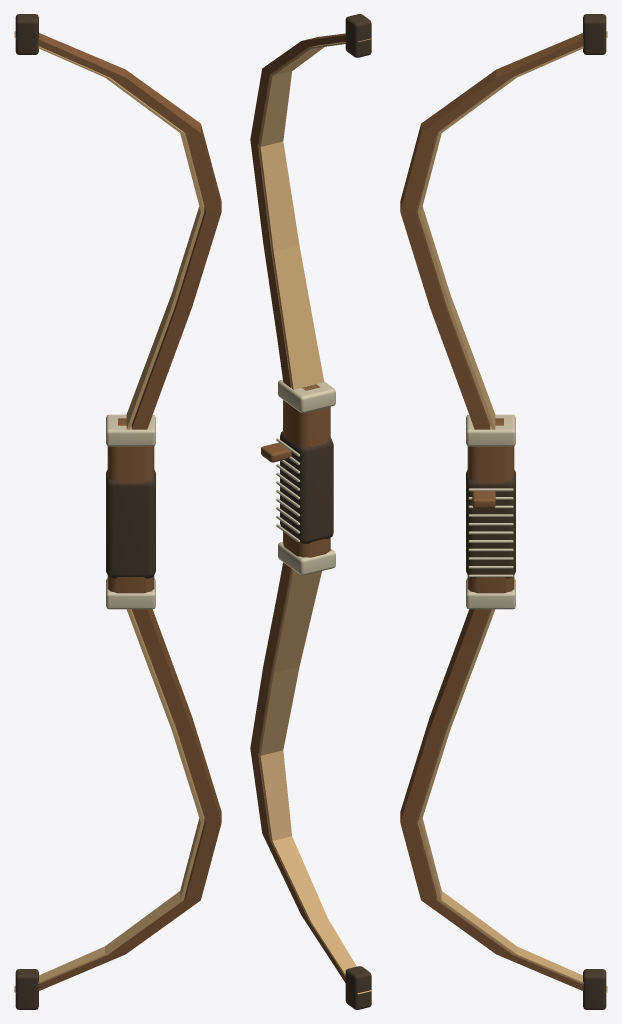
The model's file is recurve_bow.glb.
3 renders of one model, left to right at view 1: azimuth 90°, elevation 25°; view 2: azimuth 210°, elevation 25°; view 3: azimuth 270°, elevation 25°, orthographic.
Visible parts, largest first — view 1: Walnut limb 1, Walnut limb -1, Leather hand grip, Maple limb -1, Maple limb 1, Carved riser, Limb binding.001, Tip reinforcement 1, Tip reinforcement -1, Limb binding; view 2: Maple limb -1, Maple limb 1, Leather hand grip, Walnut limb 1, Walnut limb -1, Carved riser, Limb binding.001, Tip reinforcement 1, Tip reinforcement -1, Limb binding, Arrow shelf; view 3: Walnut limb 1, Walnut limb -1, Leather hand grip, Maple limb -1, Maple limb 1, Carved riser, Limb binding.001, Tip reinforcement 1, Tip reinforcement -1, Limb binding.
Boxes of the visible parts, box(x1,y1,x2,y2) form: Walnut limb 1: box(38, 33, 221, 429); Walnut limb -1: box(38, 609, 221, 991); Leather hand grip: box(106, 470, 155, 578); Maple limb -1: box(14, 609, 204, 992); Maple limb 1: box(14, 31, 204, 429); Carved riser: box(107, 418, 154, 593); Limb binding.001: box(106, 414, 155, 446); Tip reinforcement 1: box(15, 14, 38, 54); Tip reinforcement -1: box(15, 969, 38, 1009); Limb binding: box(106, 578, 155, 609); Maple limb -1: box(259, 569, 371, 994); Maple limb 1: box(259, 38, 370, 389); Leather hand grip: box(280, 431, 333, 543); Walnut limb 1: box(250, 33, 345, 387); Walnut limb -1: box(250, 562, 345, 982); Carved riser: box(283, 384, 330, 557); Limb binding.001: box(278, 379, 335, 412); Tip reinforcement 1: box(345, 14, 371, 57); Tip reinforcement -1: box(345, 966, 371, 1009); Limb binding: box(278, 542, 335, 575); Arrow shelf: box(261, 442, 291, 462); Walnut limb 1: box(400, 33, 583, 429); Walnut limb -1: box(400, 609, 583, 991); Leather hand grip: box(466, 470, 515, 578); Maple limb -1: box(417, 609, 607, 992); Maple limb 1: box(417, 31, 607, 429); Carved riser: box(467, 418, 514, 593); Limb binding.001: box(466, 414, 515, 446); Tip reinforcement 1: box(583, 14, 606, 54); Tip reinforcement -1: box(583, 969, 606, 1009); Limb binding: box(466, 578, 515, 609).
Bounding box in the file's own units: 0.0745 × 1.27 × 0.24.
